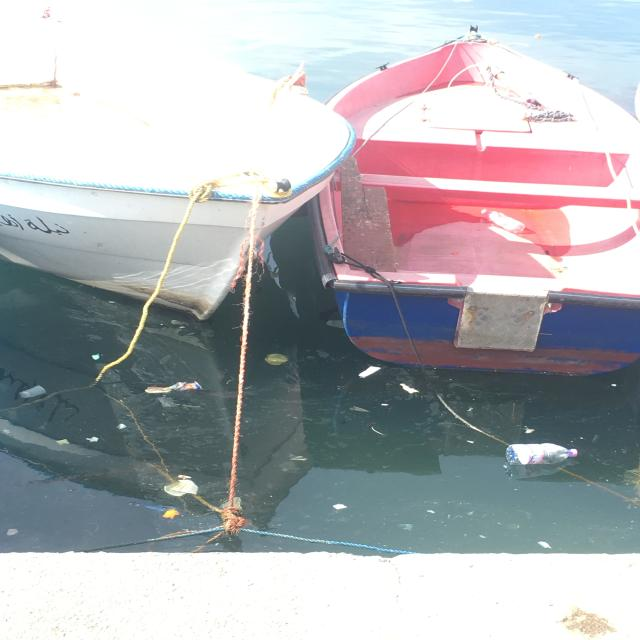Plastic bottle: (502, 441, 580, 466)
Plastic cup: (160, 472, 201, 500), (16, 384, 47, 399), (263, 352, 290, 368)
Plastic packaging: (142, 379, 204, 398), (357, 364, 382, 380)
